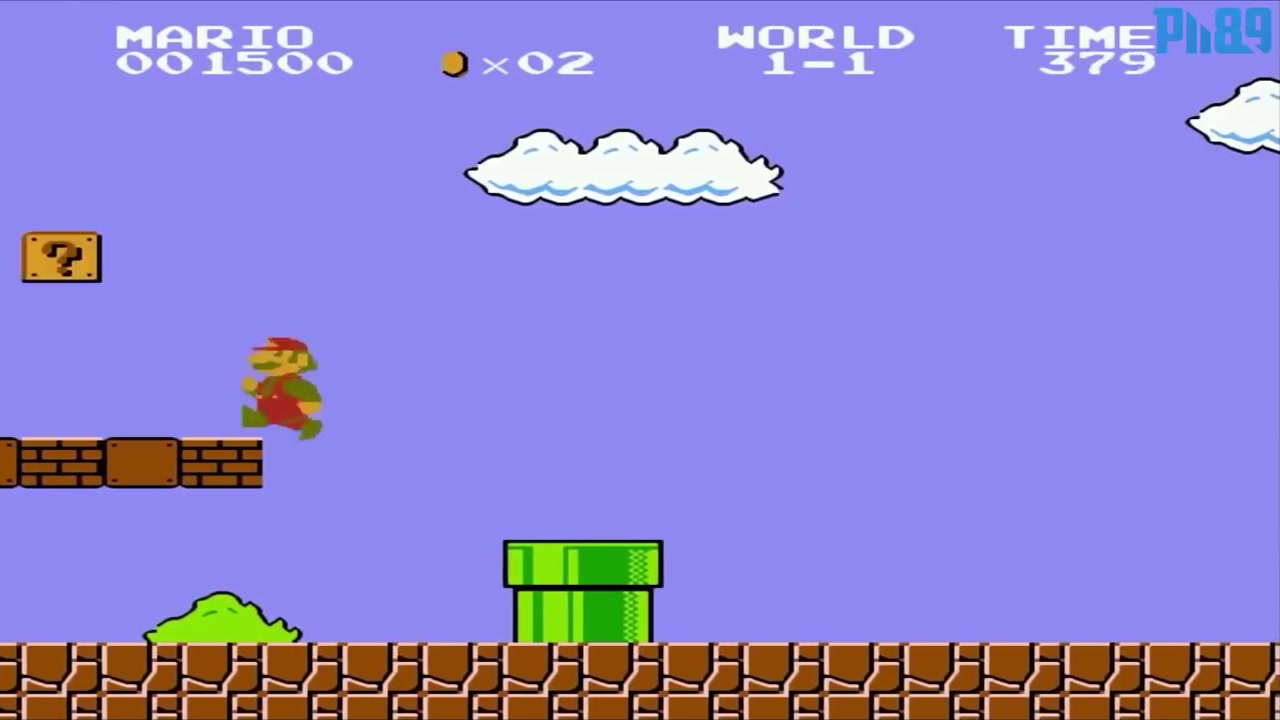mario: (230, 327, 330, 439)
